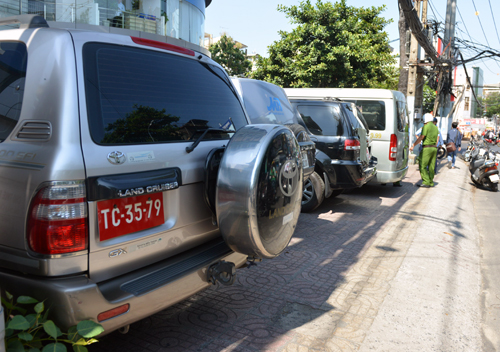plate: (94, 190, 166, 242)
